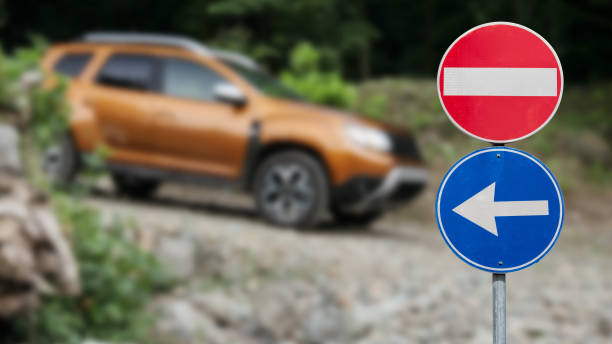Girilmez: (438, 21, 565, 146)
otomobil: (14, 20, 419, 262)
